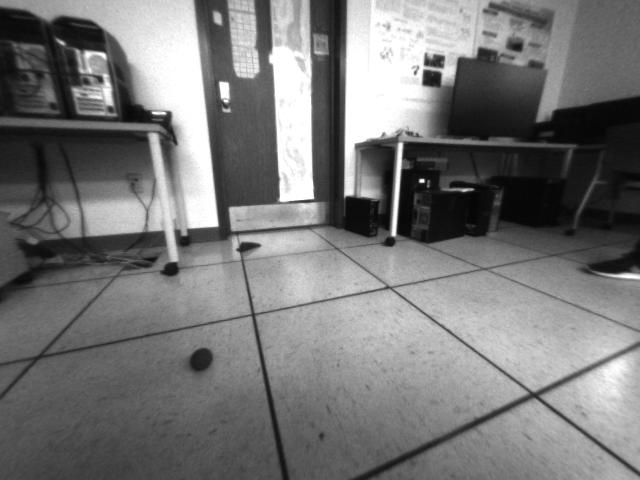dogtoy: (183, 340, 220, 376)
